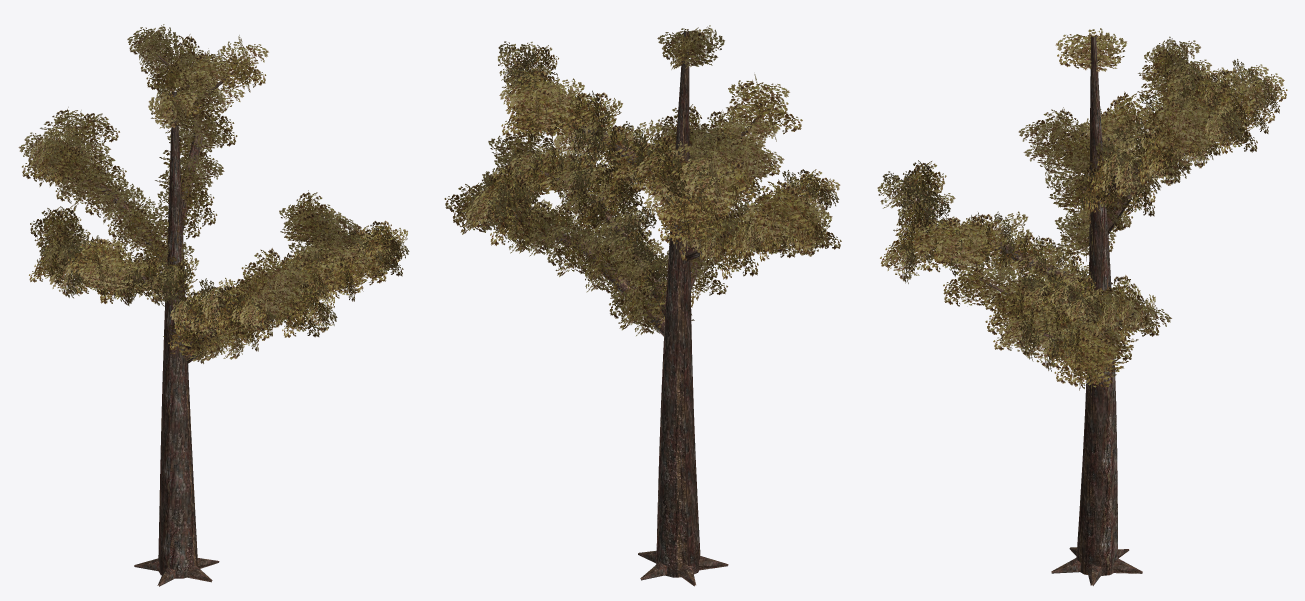
Rendered from tree_3d_01_golden_beige_lod0.glb.
3 views of the same model, side by side, from view 1: azimuth 30°, elevation 25°; view 2: azimuth 150°, elevation 25°; view 3: azimuth 270°, elevation 25° (orthographic). The views are drawn at different scales.
Visible parts, largest first — view 1: foliage_cards, wood_geometry; view 2: foliage_cards, wood_geometry; view 3: foliage_cards, wood_geometry.
Boxes of the visible parts, x1=… form: foliage_cards: x1=18, y1=24, x2=409, y2=363; wood_geometry: x1=67, y1=53, x2=388, y2=586; foliage_cards: x1=444, y1=25, x2=841, y2=335; wood_geometry: x1=488, y1=31, x2=804, y2=586; foliage_cards: x1=877, y1=28, x2=1287, y2=392; wood_geometry: x1=915, y1=36, x2=1249, y2=585.
Bounding box in the file's own units: 7.11 × 9.14 × 6.44.
2 materials, 2 textured.
